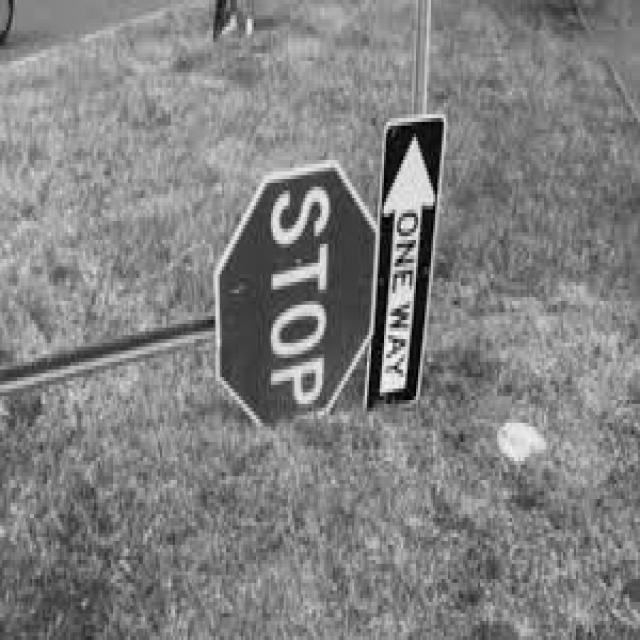stop sign: (217, 166, 375, 425)
